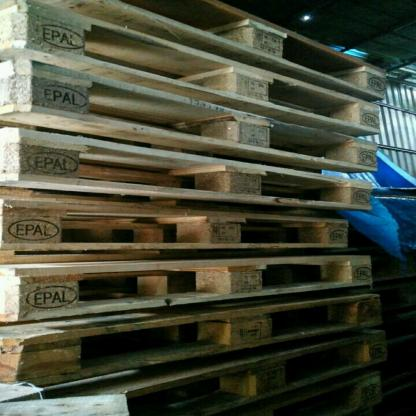BoxFace: (0, 3, 386, 136), (3, 58, 379, 174), (5, 124, 377, 211), (4, 254, 373, 325)
